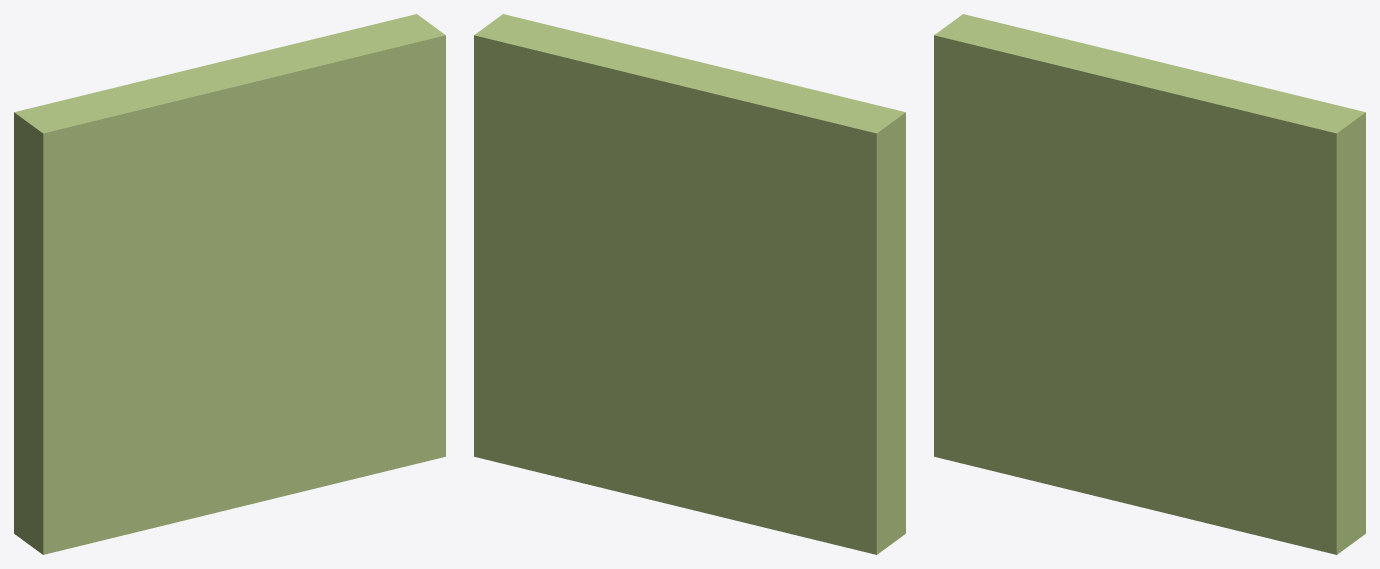
The picture shows the model from 3 angles, left to right: view 1: azimuth 30°, elevation 25°; view 2: azimuth 150°, elevation 25°; view 3: azimuth 330°, elevation 25°; orthographic projection.
Bounding box in the file's own units: 8 × 8 × 1.
